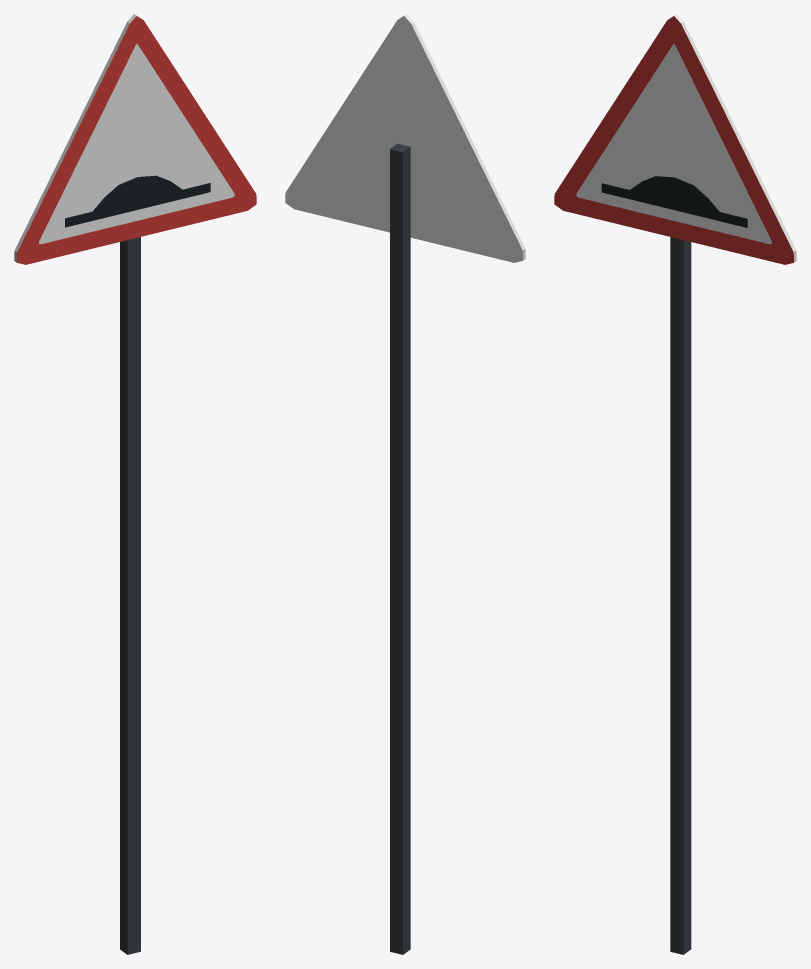
File: SM_FloorProps_RoadSign_15.fbx
3 views of the same model, side by side, from view 1: azimuth 30°, elevation 25°; view 2: azimuth 150°, elevation 25°; view 3: azimuth 330°, elevation 25° (orthographic).
Parts seen in each view (by area): view 1: SM_FloorProps_RoadSign_15; view 2: SM_FloorProps_RoadSign_15; view 3: SM_FloorProps_RoadSign_15.
Part boxes in pixels (left/top/right/bottom): SM_FloorProps_RoadSign_15: left=14, top=14, right=256, bottom=954; SM_FloorProps_RoadSign_15: left=285, top=14, right=525, bottom=954; SM_FloorProps_RoadSign_15: left=554, top=14, right=796, bottom=954.
Size of the model in its own units: 0.7755 by 2.9 by 0.0606.
